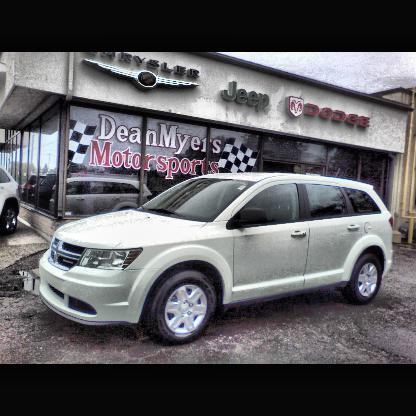Dodge Journey SUV 2012: (40, 174, 393, 338)
